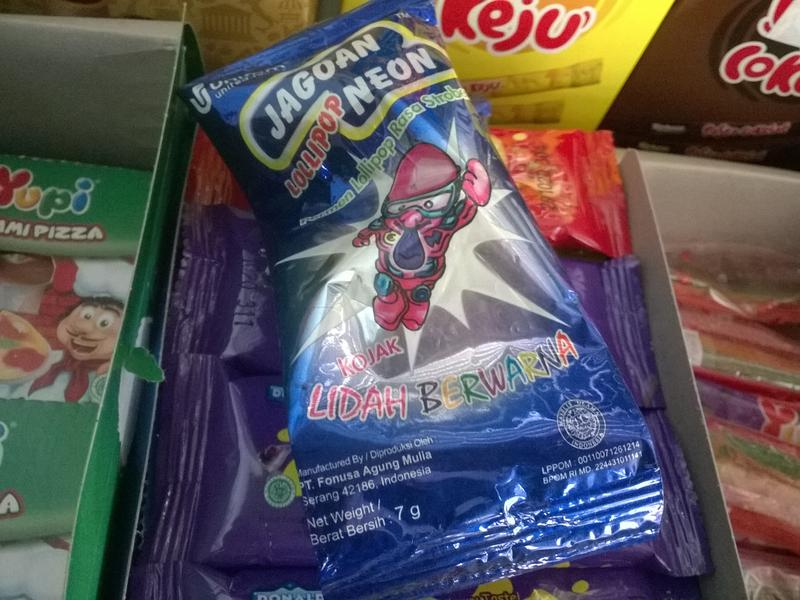jagoan neon: (179, 1, 665, 597)
